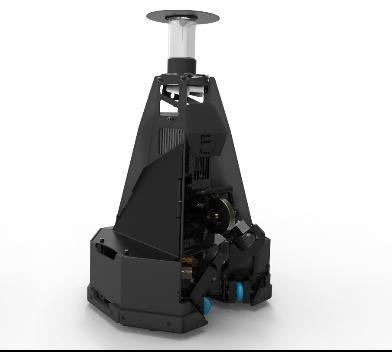robot: (79, 2, 278, 339)
